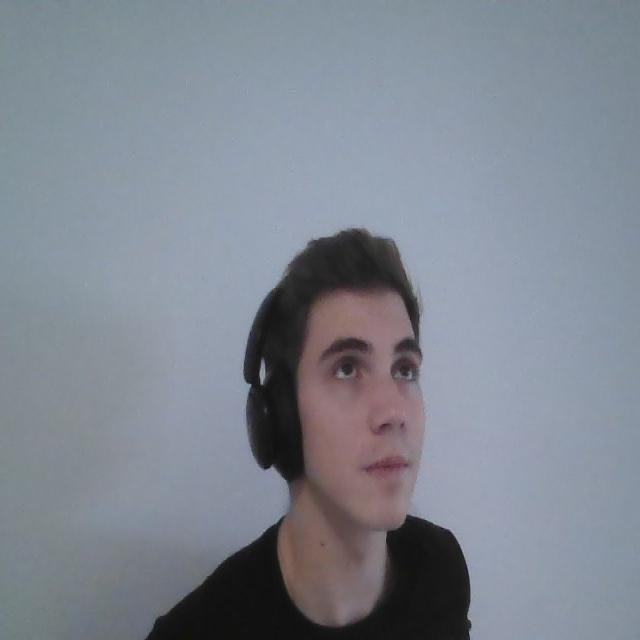opened_eye: (328, 354, 369, 385), (390, 358, 421, 385)
